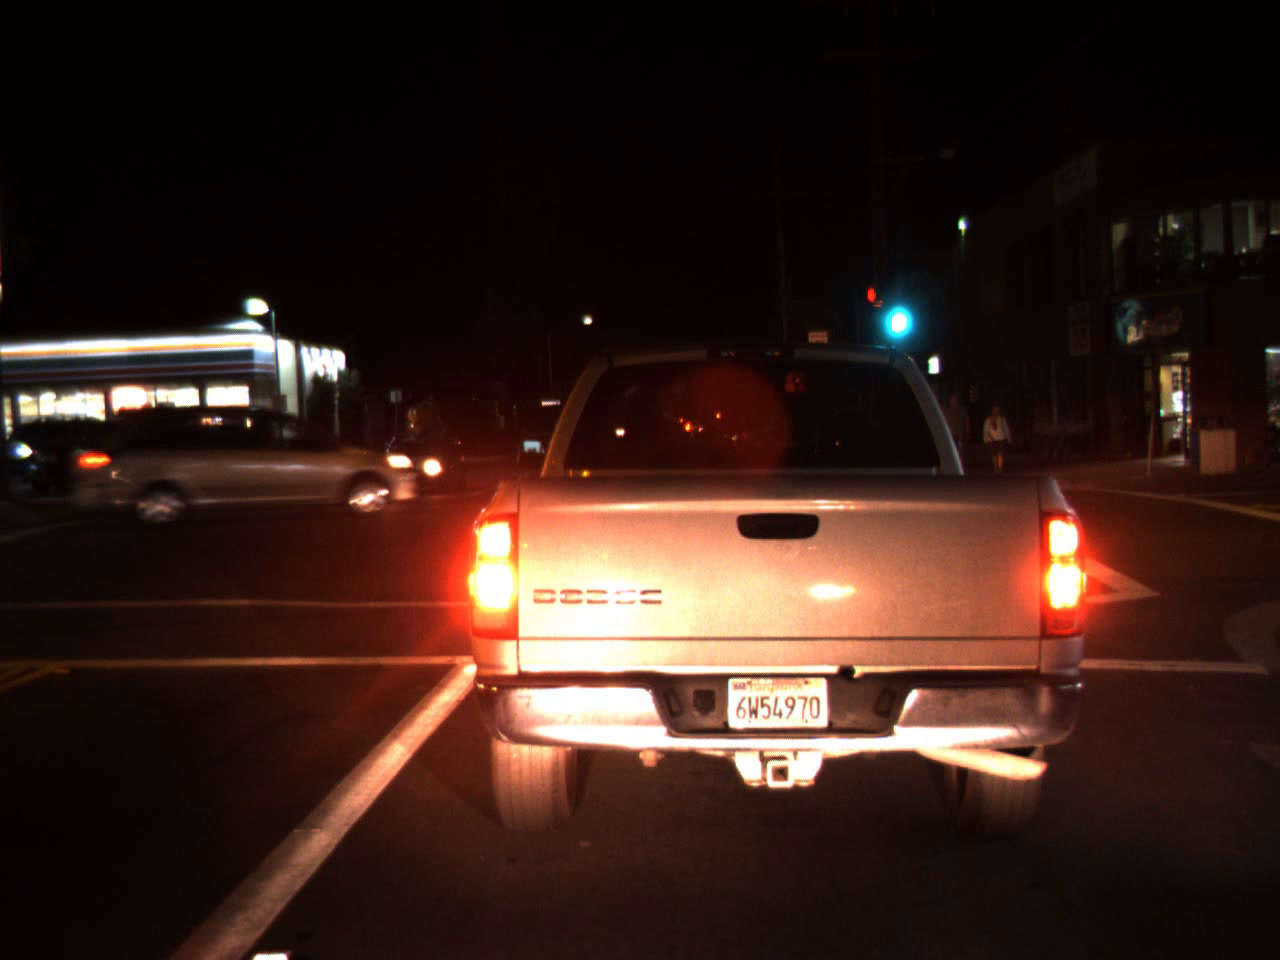go: (874, 275, 911, 347)
